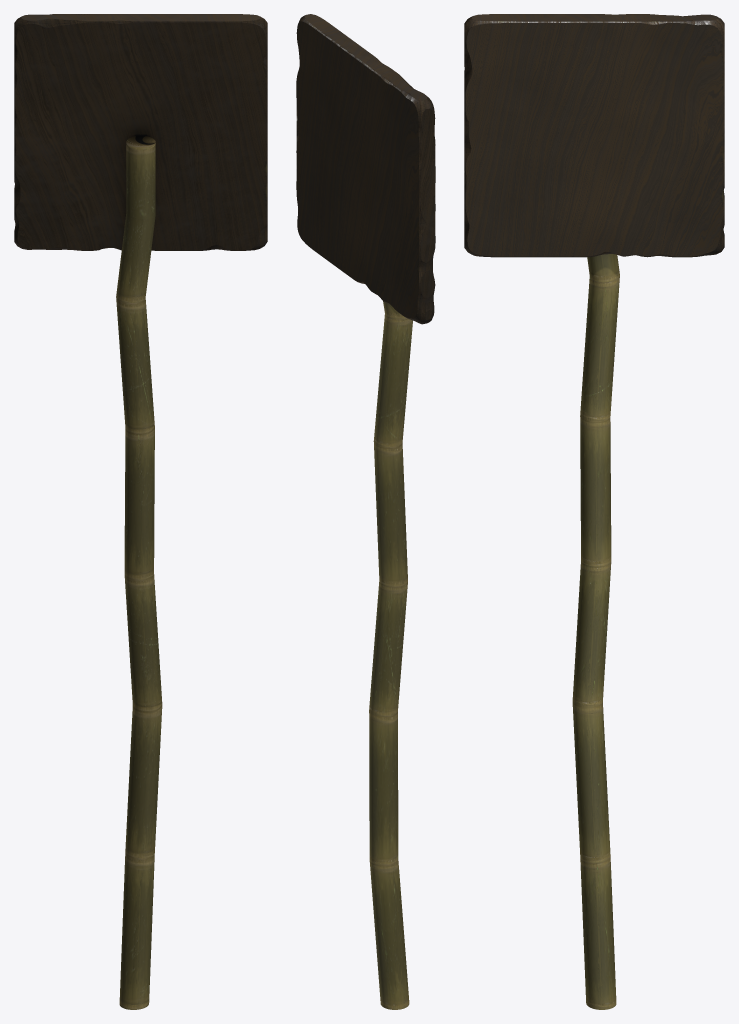
Rendered from mato3.fbx.
The picture shows the model from 3 angles, left to right: view 1: azimuth 90°, elevation 25°; view 2: azimuth 210°, elevation 25°; view 3: azimuth 270°, elevation 25°; orthographic projection. The views are drawn at different scales.
Visible parts, largest first — view 1: mato3; view 2: mato3; view 3: mato3.
Boxes of the visible parts, bbox=[...] form: mato3: bbox=[14, 14, 267, 1009]; mato3: bbox=[296, 14, 435, 1009]; mato3: bbox=[464, 14, 724, 1009].
Size of the model in its own units: 0.114 by 2.11 by 0.4971.
Materials: 1 (1 with a texture image).
